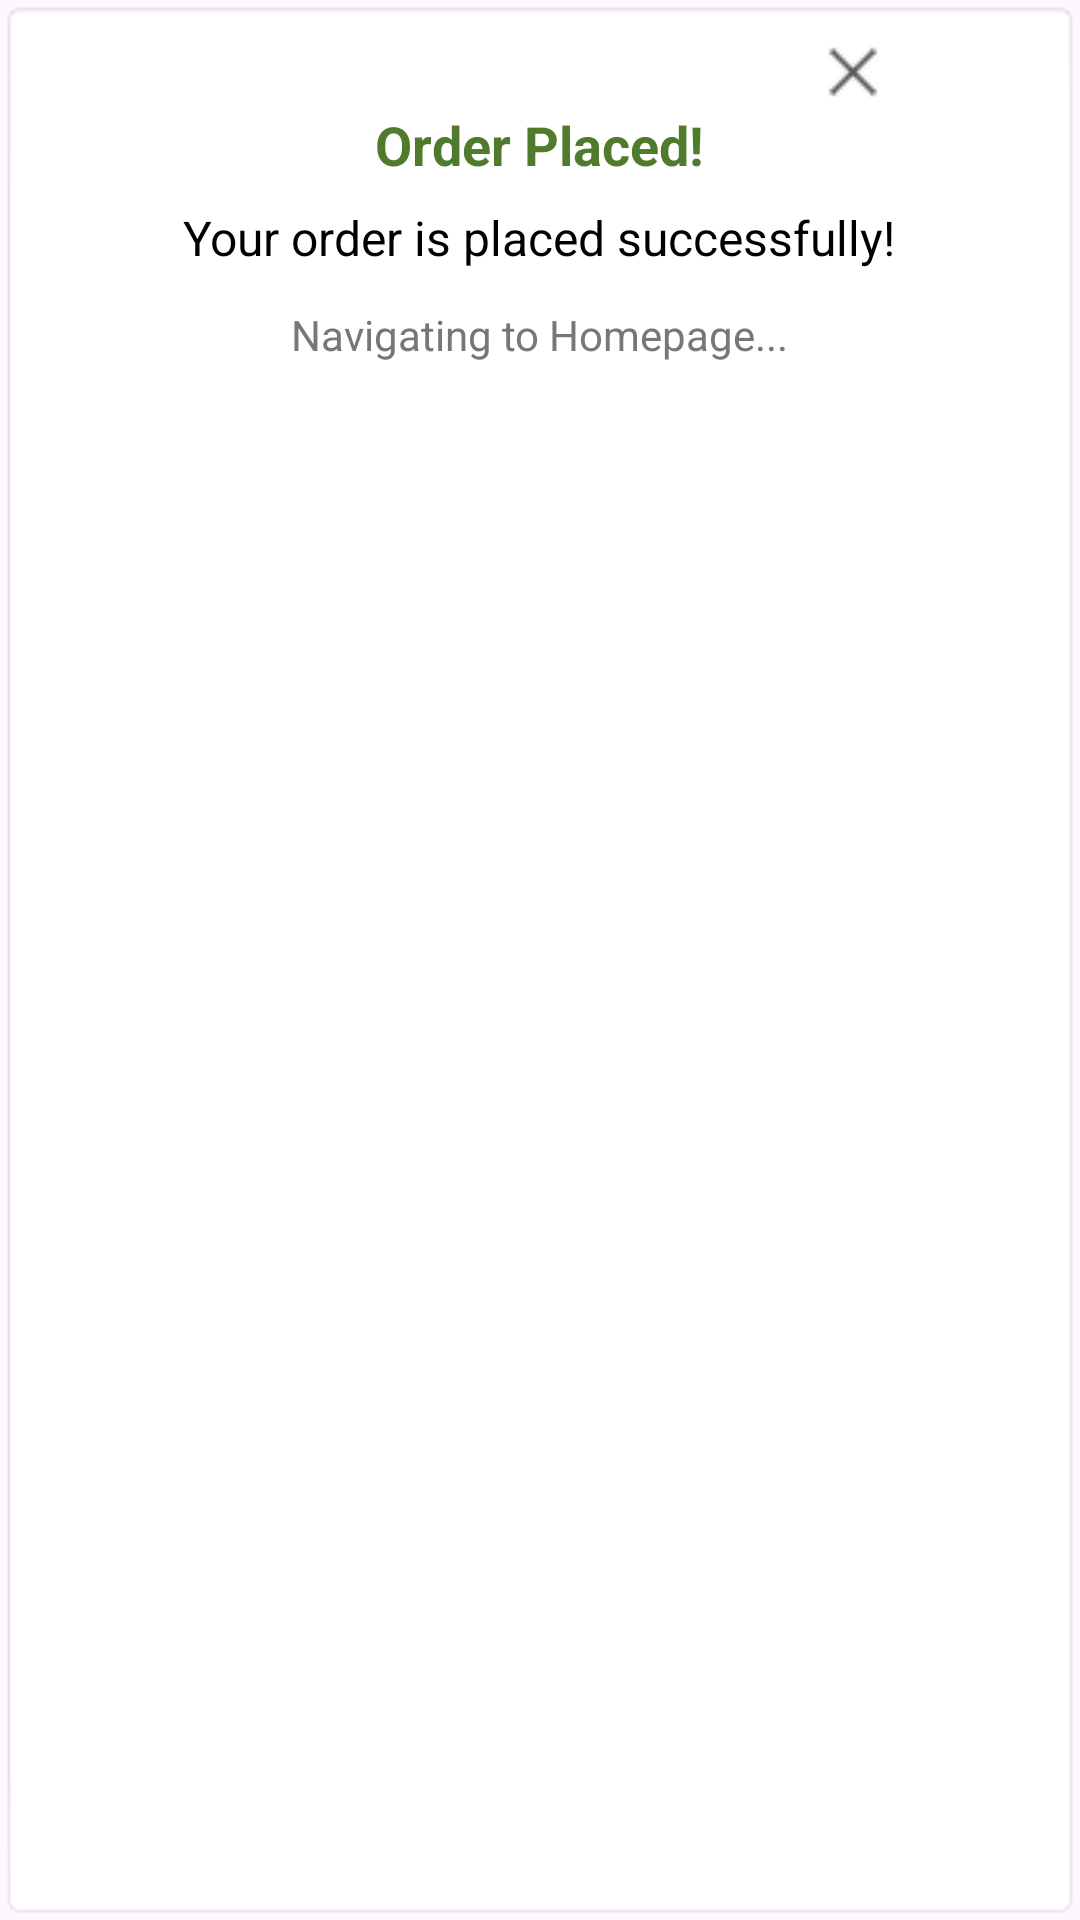

Icons on this 1080px×1920px Android screen, each with the point to tap as [x,y]:
close: [853,72]
